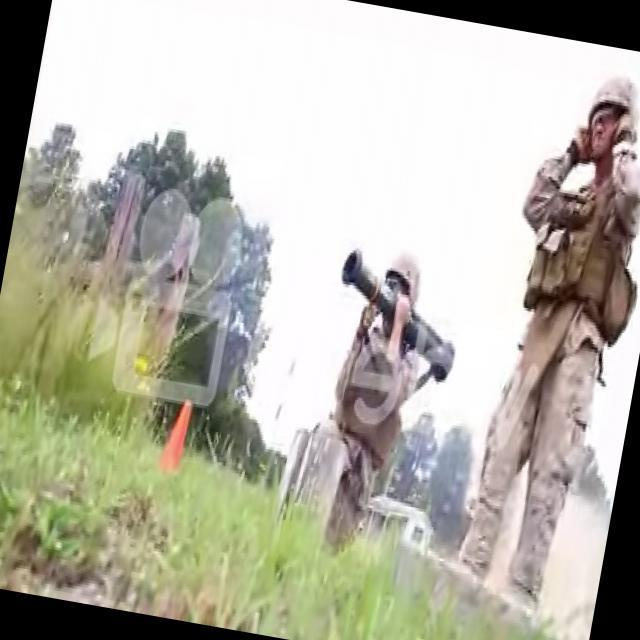rocket: (327, 248, 472, 391)
